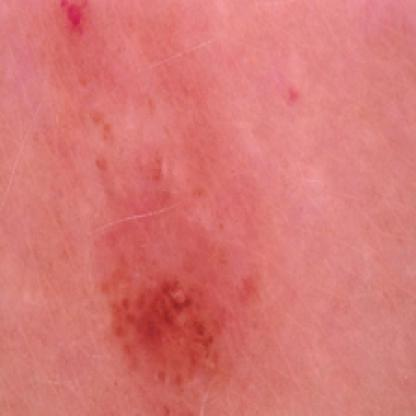benign: (48, 0, 266, 414)
